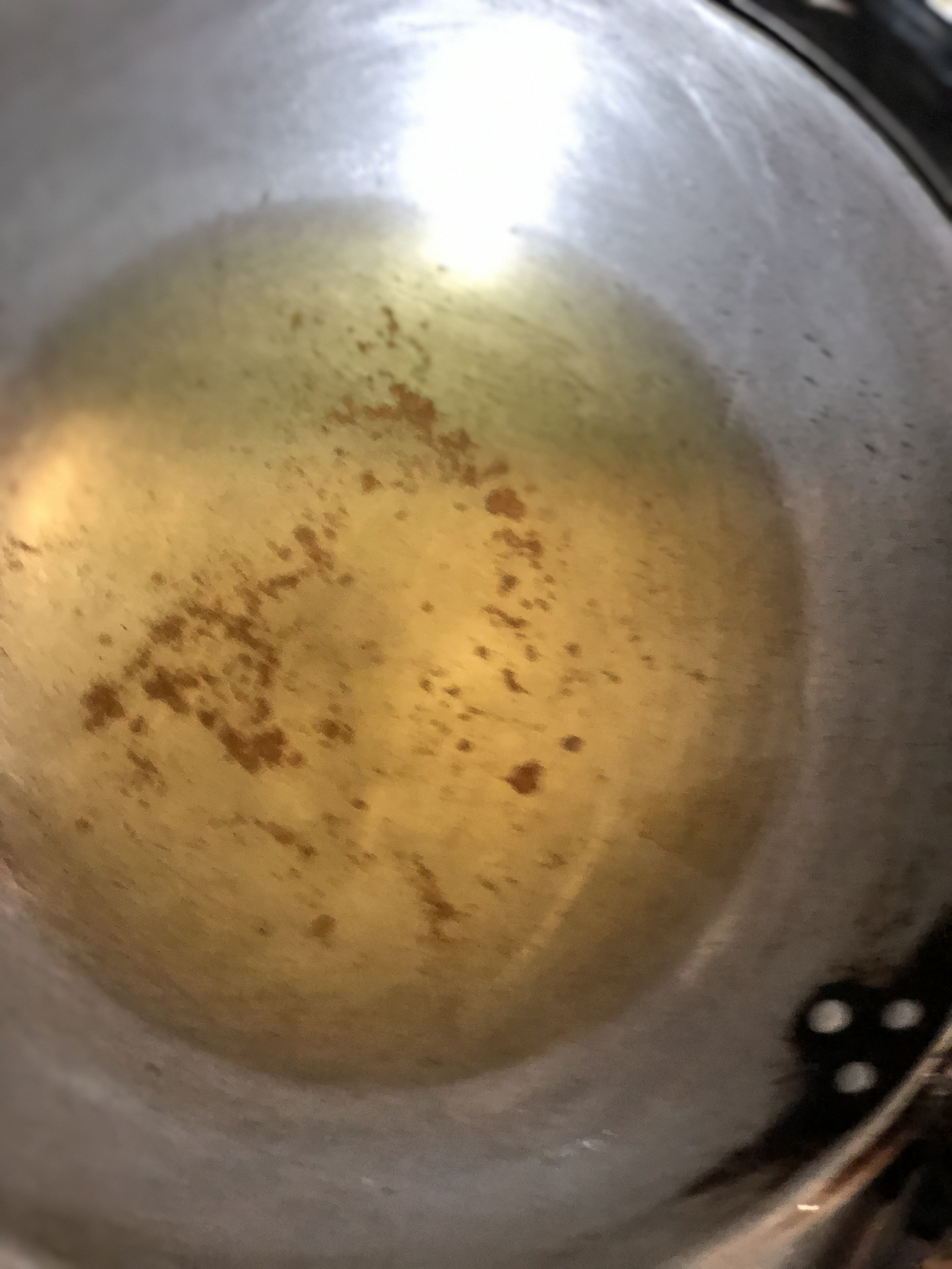reusable: (0, 201, 800, 1089)
